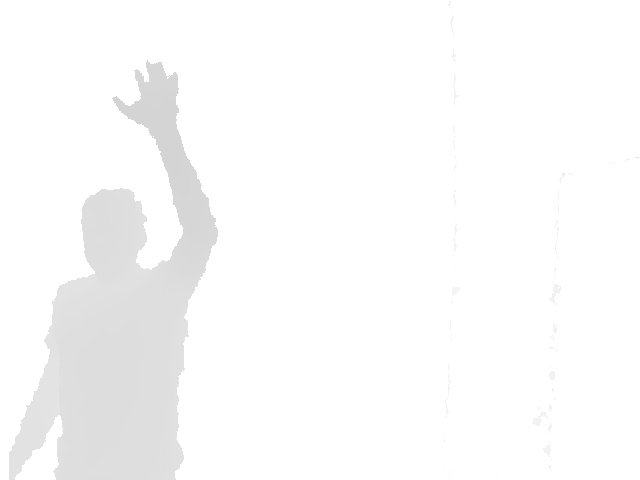hand: (111, 60, 180, 126)
head: (80, 186, 149, 274)
person: (9, 59, 221, 479)
